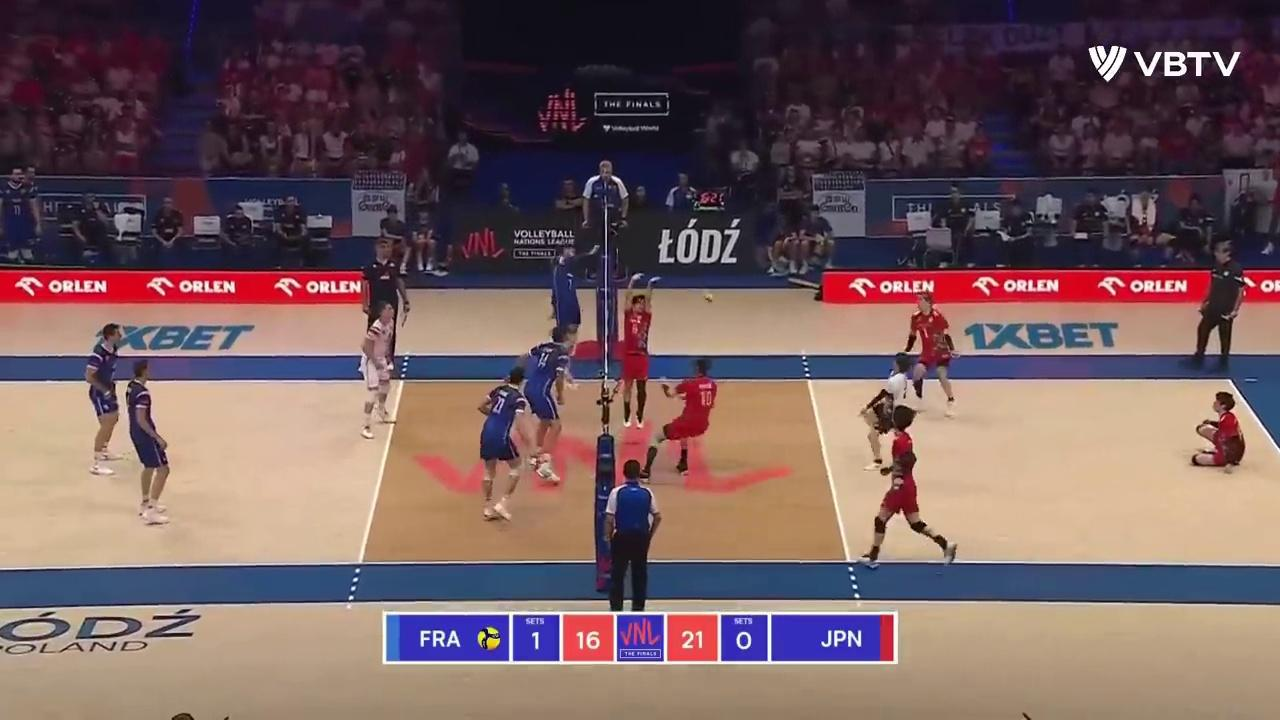ball: (698, 291, 715, 303)
